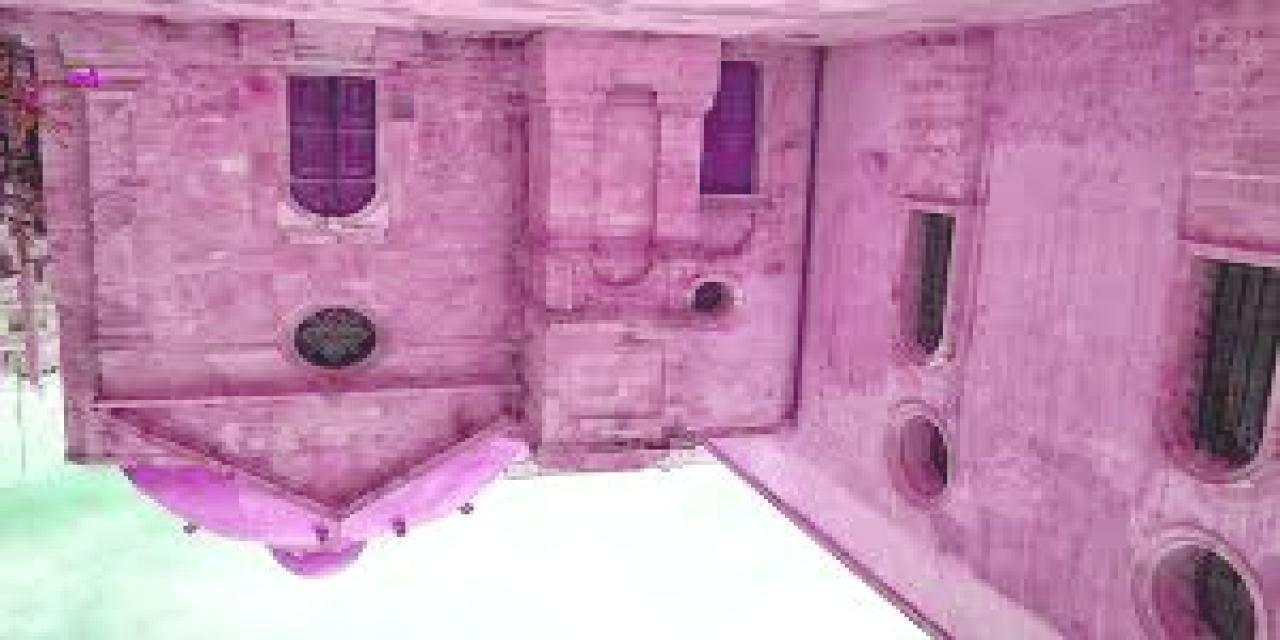Agia Aikaterini: (40, 4, 1280, 640)
